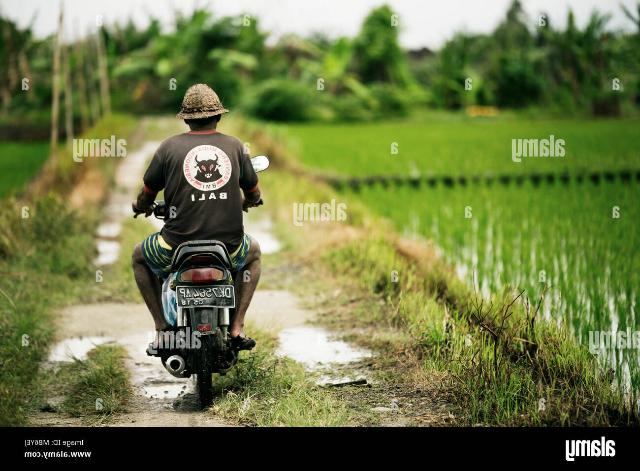motor: (132, 152, 277, 410)
non-helm: (176, 83, 233, 136)
